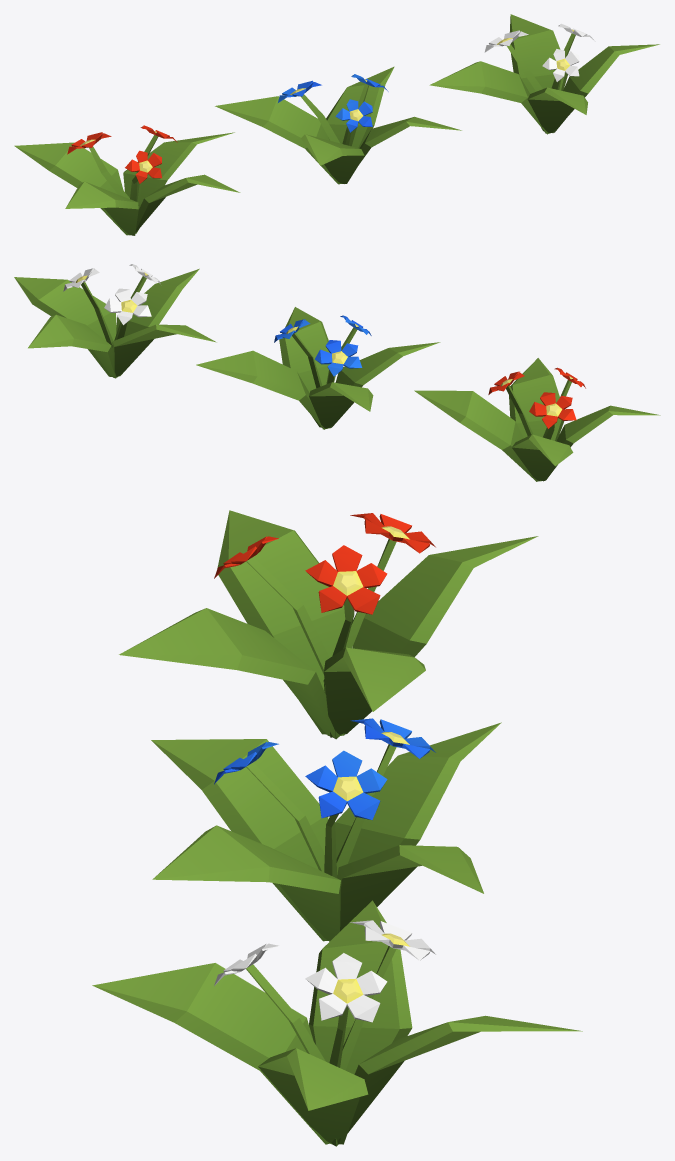
Rendered from Flowers.fbx.
3 views of the same model, one above another, from view 1: azimuth 30°, elevation 25°; view 2: azimuth 150°, elevation 25°; view 3: azimuth 270°, elevation 25° (orthographic). The views are drawn at different scales.
Visible parts, largest first — view 1: Flower_bush_white, Flower_bush_red, Flower_bush_blue; view 2: Flower_bush_white, Flower_bush_blue, Flower_bush_red; view 3: Flower_bush_blue, Flower_bush_red, Flower_bush_white.
Boxes of the visible parts, x1,y1,x2,y2 form: Flower_bush_white: [429, 14, 659, 134]; Flower_bush_red: [14, 125, 240, 235]; Flower_bush_blue: [215, 66, 461, 184]; Flower_bush_white: [14, 264, 216, 378]; Flower_bush_blue: [196, 307, 440, 429]; Flower_bush_red: [414, 358, 660, 481]; Flower_bush_blue: [151, 718, 501, 941]; Flower_bush_red: [119, 510, 538, 739]; Flower_bush_white: [92, 900, 582, 1146].
Bounding box in the file's own units: 402 × 62.64 × 139.
Materials: 1 (1 with a texture image).
